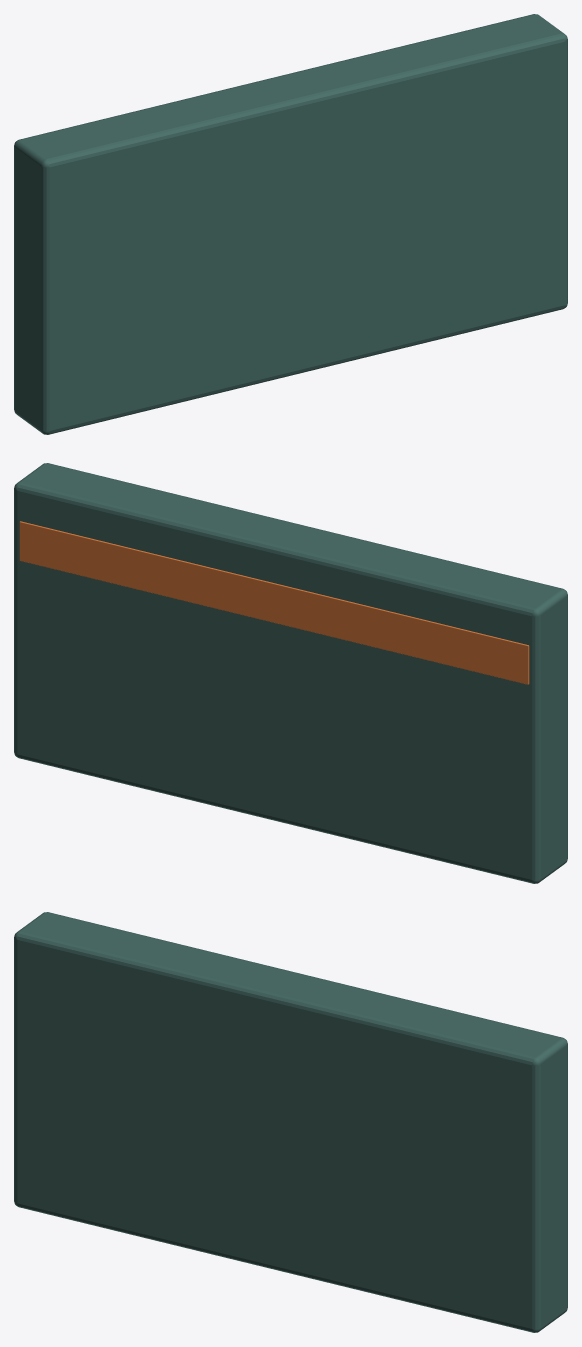
Rendered from gate.glb.
3 views of the same model, one above another, from view 1: azimuth 30°, elevation 25°; view 2: azimuth 150°, elevation 25°; view 3: azimuth 330°, elevation 25° (orthographic).
Parts seen in each view (by area): view 1: gate; view 2: gate; view 3: gate.
Boxes of the visible parts, x1,y1,x2,y2 form: gate: (14, 14, 567, 434); gate: (14, 463, 567, 883); gate: (14, 912, 567, 1332).
Bounding box in the file's own units: 0.028 × 0.014 × 0.00308.
